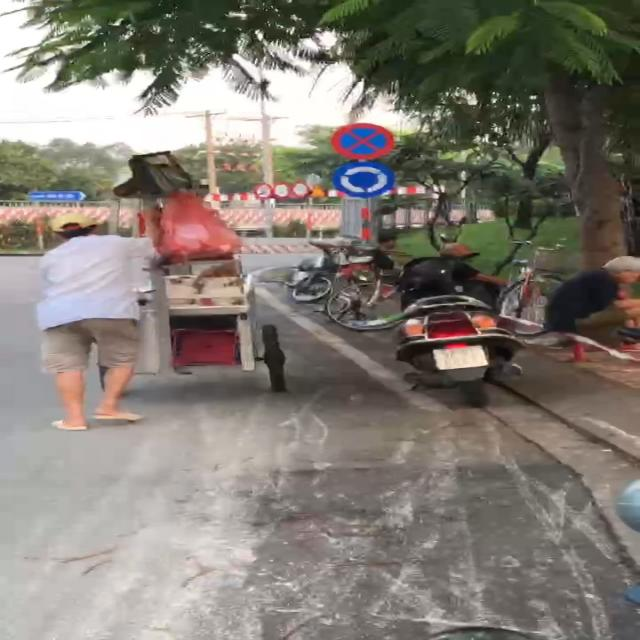Bien bao cam dung xe va do xe: (326, 121, 400, 162)
Bien bao noi giao nhau chay theo vong xuyen: (330, 160, 402, 201)
